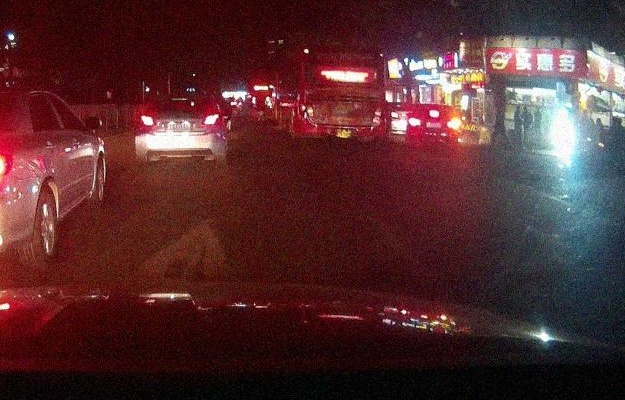L_light: (139, 113, 156, 126), (301, 102, 310, 122), (409, 118, 421, 126)
R_light: (202, 113, 219, 125), (372, 107, 381, 126), (447, 119, 460, 127)
T_light: (338, 49, 351, 55), (429, 110, 438, 116), (171, 98, 188, 101)
night-no: (297, 44, 388, 145), (135, 94, 226, 165)
night-right: (408, 103, 460, 146)
